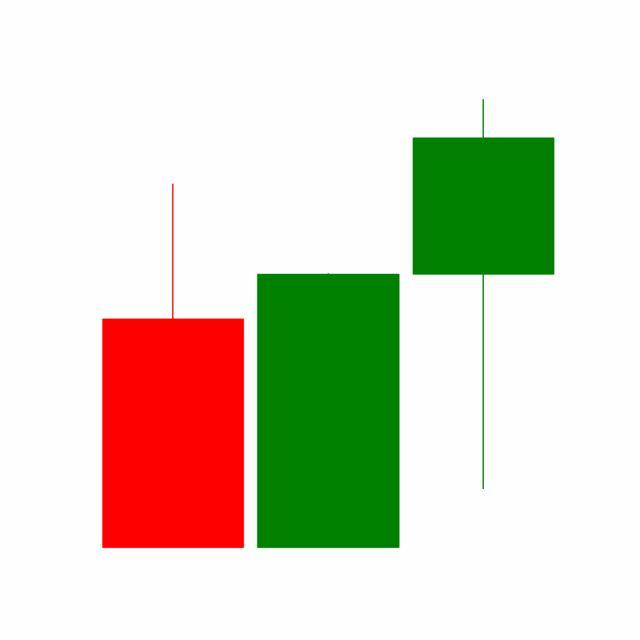Marubozu: (250, 271, 407, 551)
